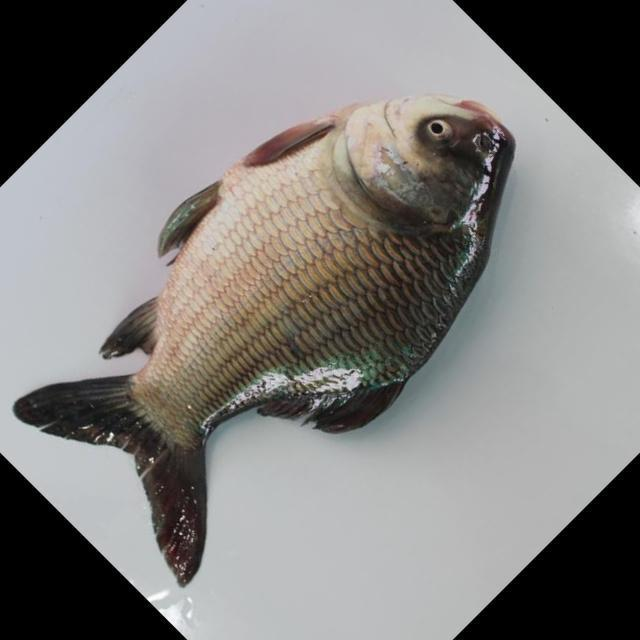Catla: (10, 92, 532, 589)
